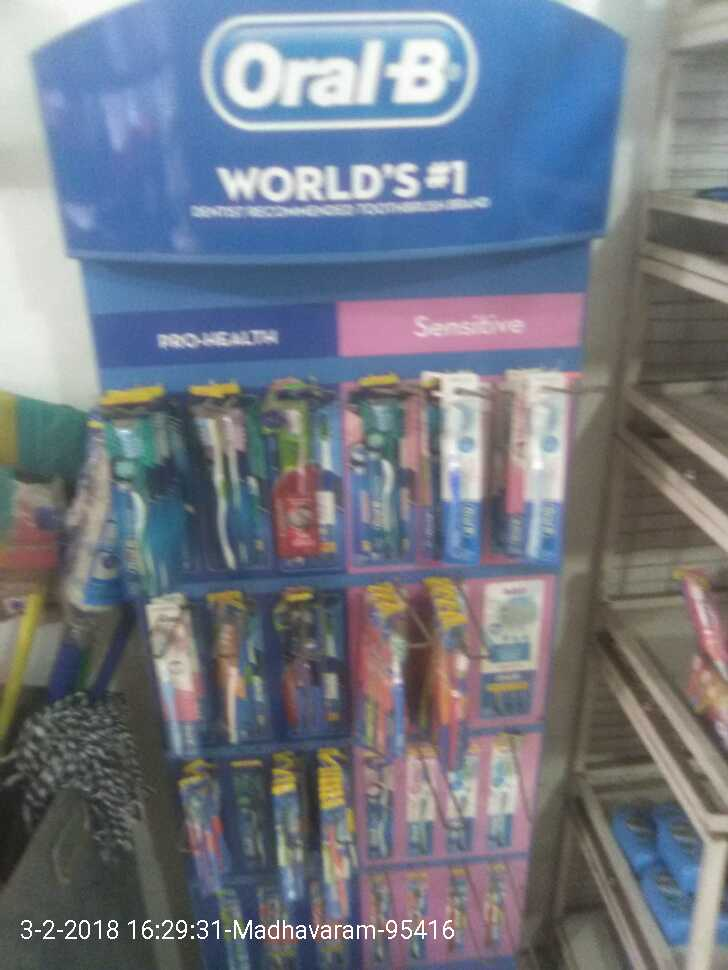oralb: (97, 407, 170, 597), (187, 404, 264, 583), (280, 390, 344, 571), (511, 377, 570, 558), (365, 390, 414, 568), (436, 390, 487, 552)
